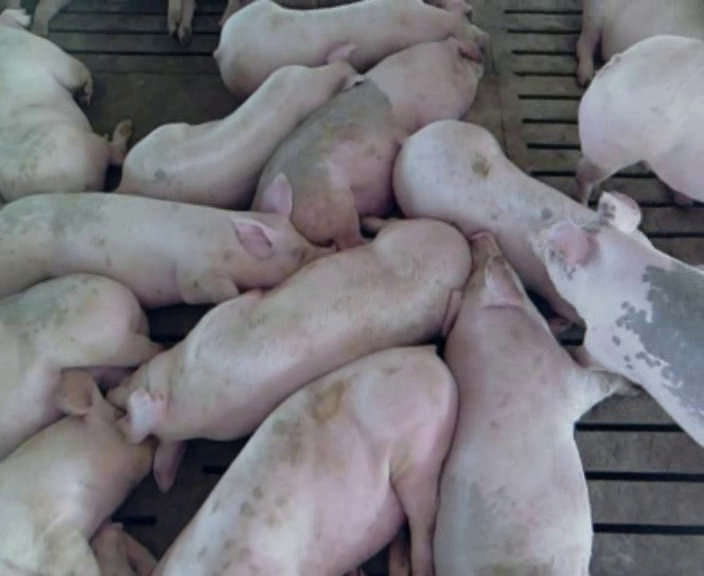pig: (110, 217, 470, 489), (158, 348, 456, 575), (434, 233, 632, 574), (252, 38, 482, 248), (0, 173, 330, 306), (534, 193, 703, 445), (393, 120, 596, 320), (117, 44, 364, 206), (0, 274, 159, 459), (214, 2, 487, 96), (577, 35, 703, 202), (577, 2, 703, 85)
